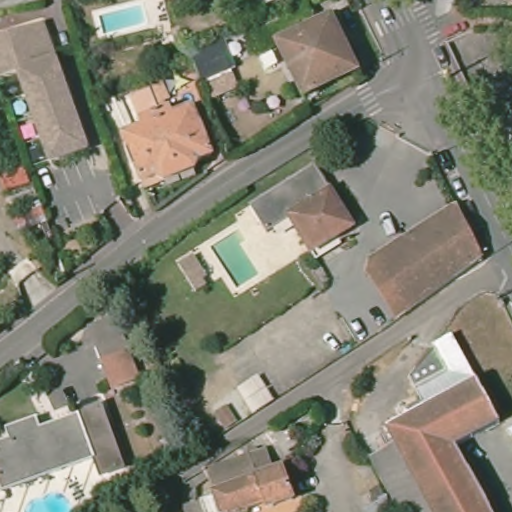pool: (202, 227, 265, 293), (86, 1, 152, 40), (12, 486, 83, 512)
